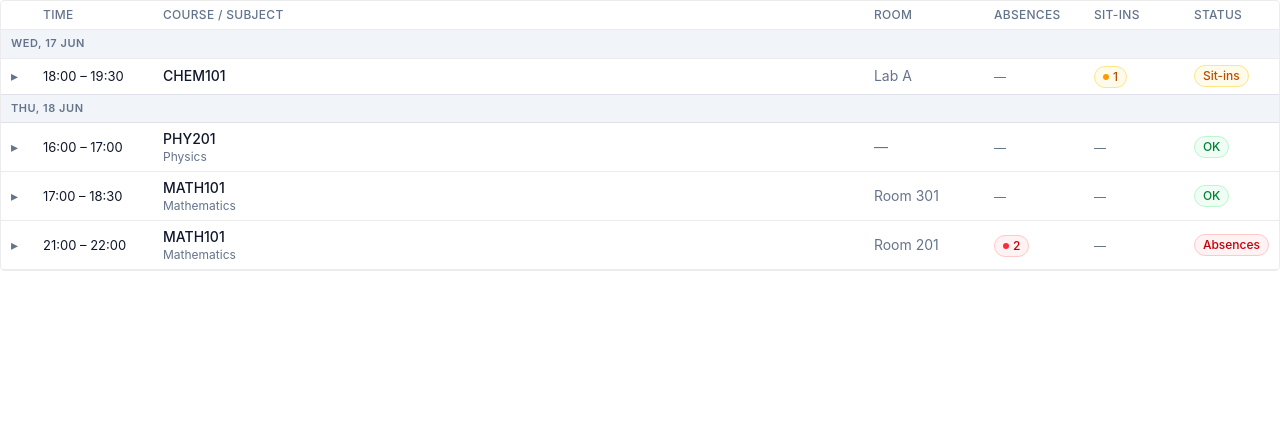
Test: SessionTable › only one row can be expanded at a time
Click the text "2" at (1012, 246), box x1=994 y1=235 x2=1029 y2=257
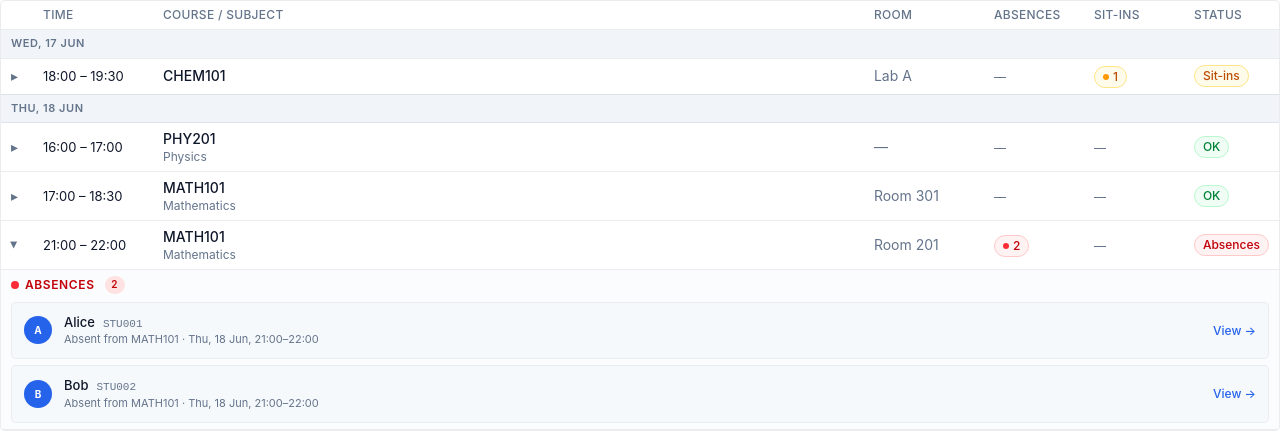
expect the number of links "View →" is 2: met, box x1=1213 y1=322 x2=1256 y2=339; x1=1213 y1=385 x2=1256 y2=402
Click the text "CHEM101" at (194, 76), box x1=163 y1=67 x2=226 y2=84
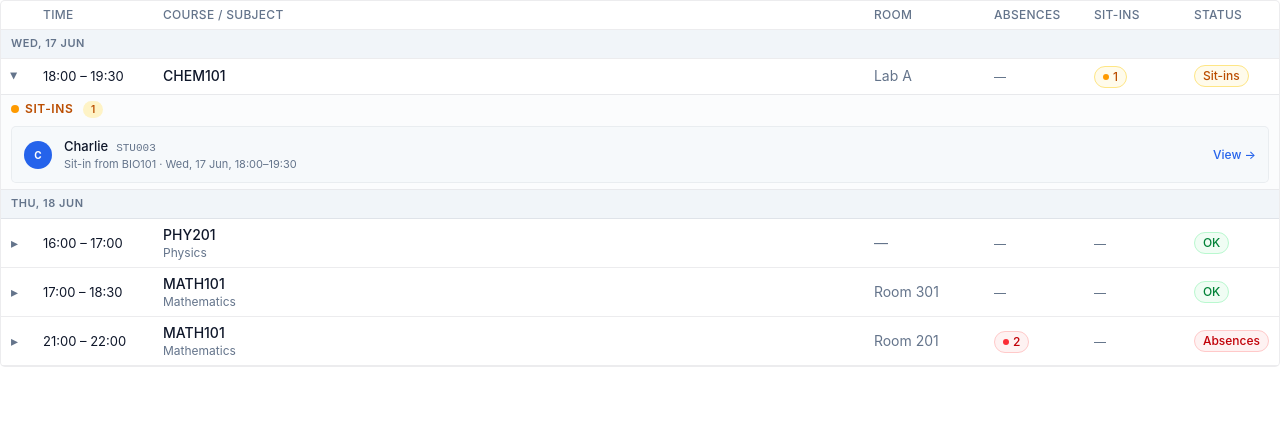
expect the number of links "View →" is 1: met, box x1=1213 y1=146 x2=1256 y2=163
